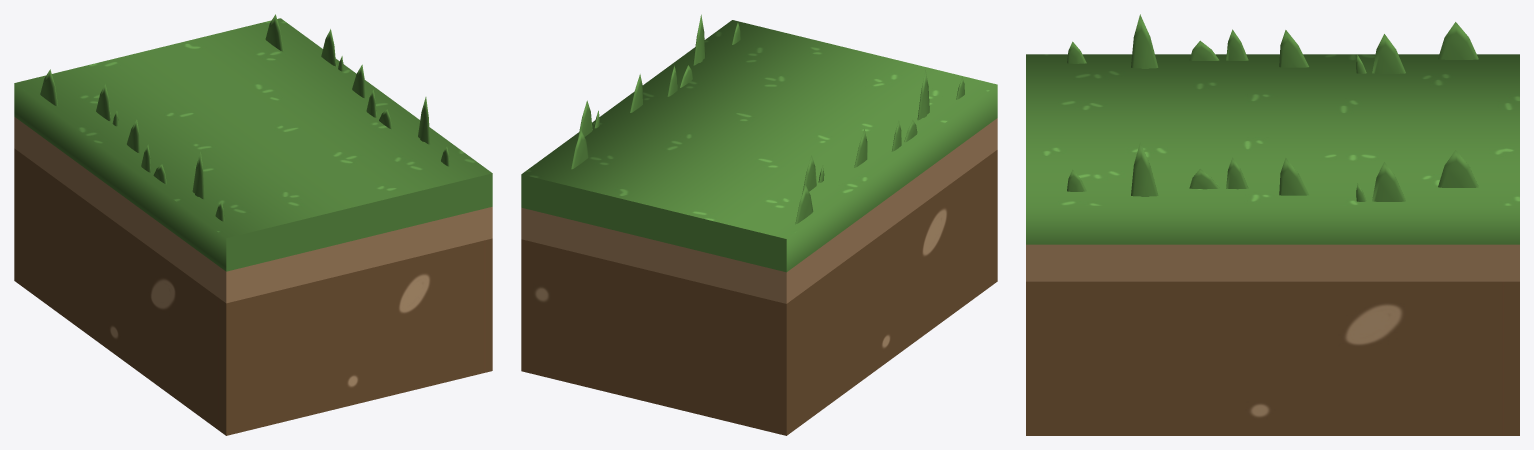
File: GrassBlock_Grass 1.fbx
3 views of the same model, side by side, from view 1: azimuth 30°, elevation 25°; view 2: azimuth 150°, elevation 25°; view 3: azimuth 270°, elevation 25° (orthographic). The views are drawn at different scales.
Parts seen in each view (by area): view 1: Land, Grass001, Grass; view 2: Land, Grass, Grass001; view 3: Land, Grass, Grass001.
Boxes of the visible parts, x1,y1,x2,y2 form: Land: (14, 18, 492, 435); Grass001: (265, 14, 449, 166); Grass: (40, 69, 224, 221); Land: (521, 20, 997, 435); Grass: (795, 69, 964, 224); Grass001: (571, 14, 740, 169); Land: (1026, 54, 1519, 435); Grass: (1067, 14, 1478, 73); Grass001: (1067, 142, 1478, 201).
Size of the model in its own units: 72.83 by 63.68 by 100.
1 material, 1 textured.
